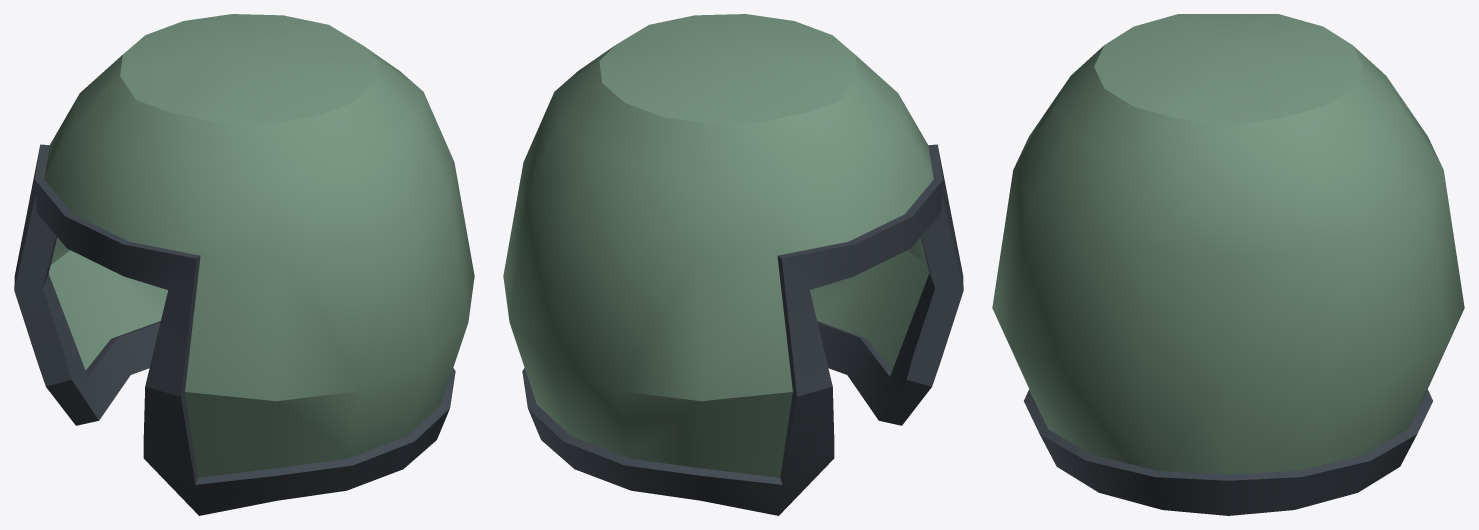
The model's file is Helmet05.fbx.
3 views of the same model, side by side, from view 1: azimuth 30°, elevation 25°; view 2: azimuth 150°, elevation 25°; view 3: azimuth 270°, elevation 25° (orthographic). The views are drawn at different scales.
Visible parts, largest first — view 1: Helmet05; view 2: Helmet05; view 3: Helmet05.
Part boxes in pixels (left/top/right/bottom): Helmet05: left=14, top=14, right=474, bottom=515; Helmet05: left=503, top=14, right=963, bottom=515; Helmet05: left=992, top=14, right=1464, bottom=515.
Size of the model in its own units: 0.9716 by 1.04 by 0.9831.
